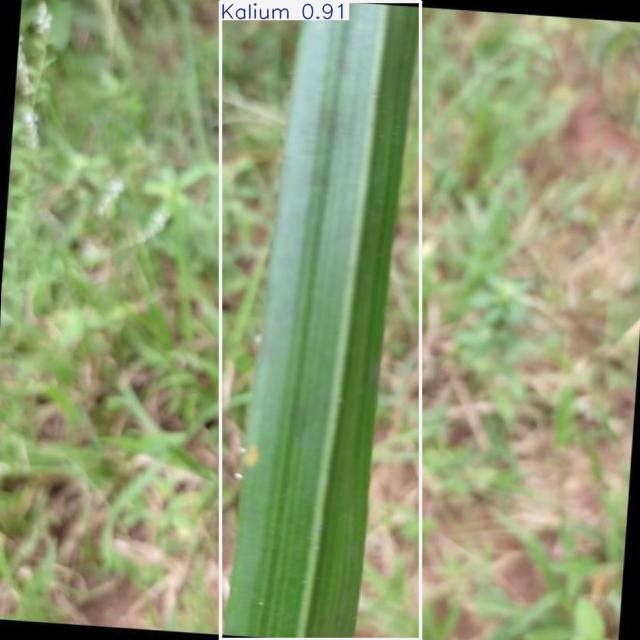Kalium: (221, 1, 420, 640)
